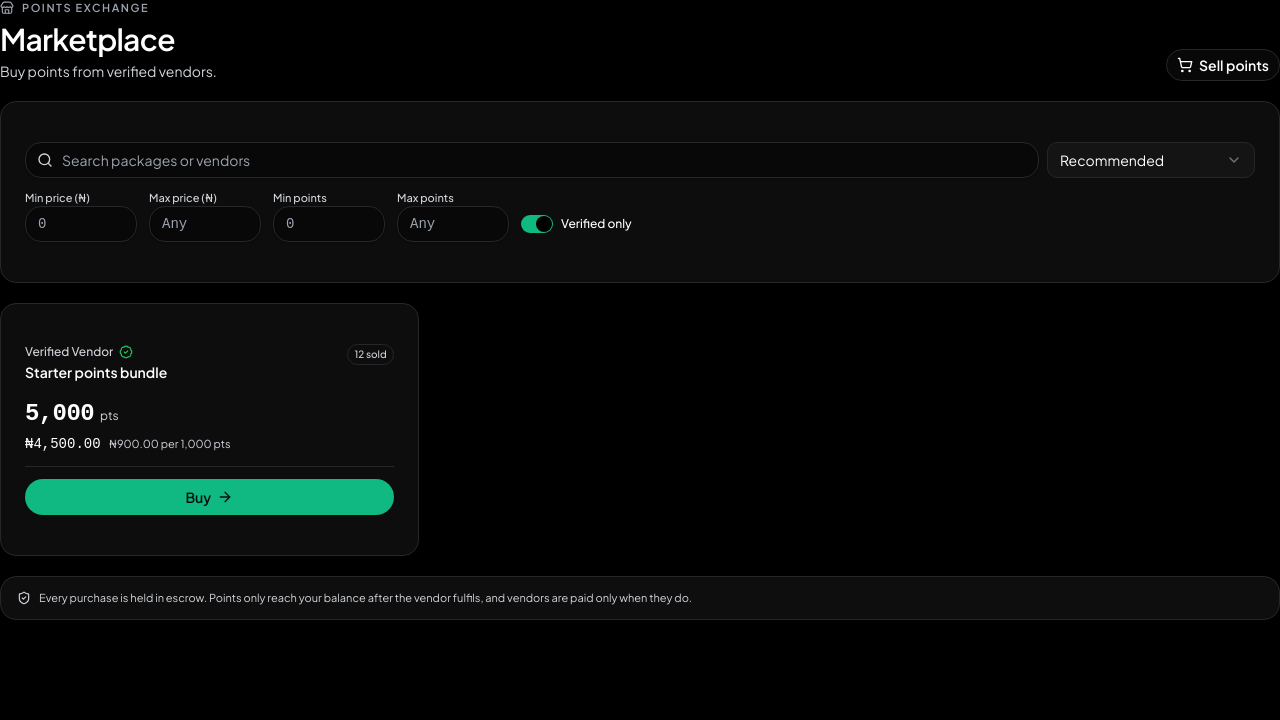
Test: PointMarketplace checkout integration › escrow order remains pending and shows its reference
This screenshot has width=1280, height=720.
Step 1. Click the button "Buy" → (209, 497), box left=25, top=479, right=394, bottom=515
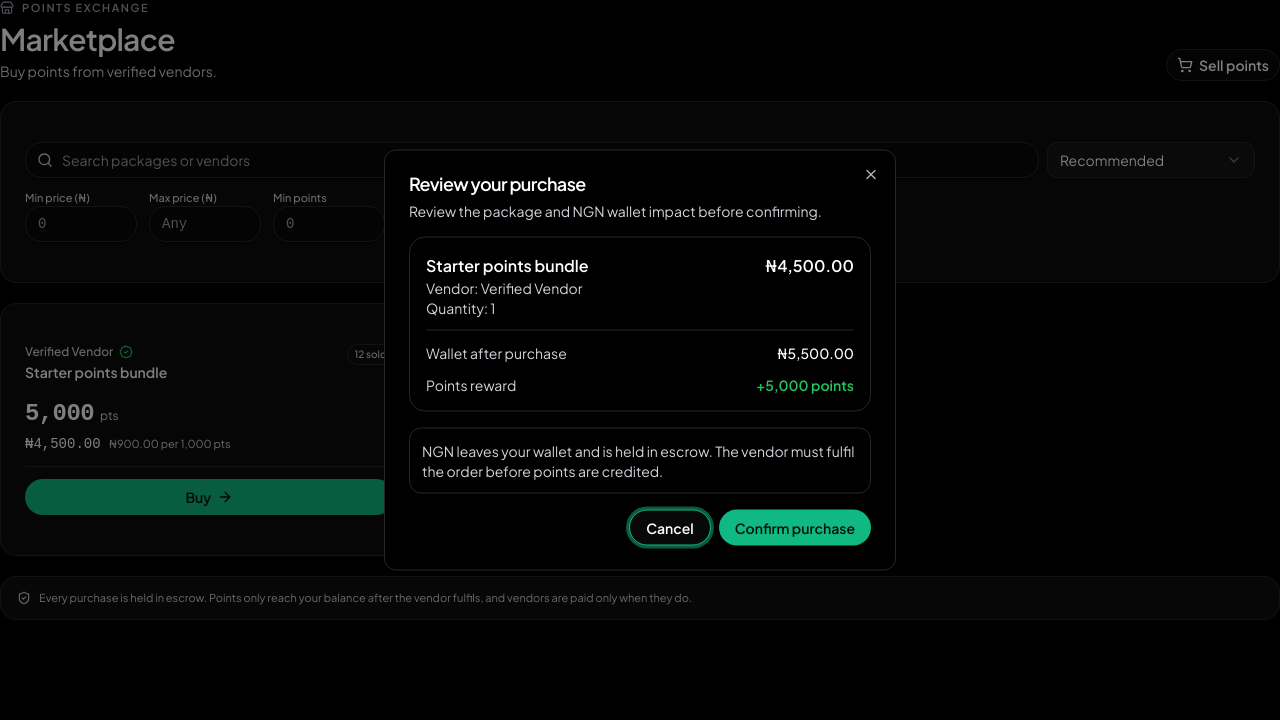
Step 2. Click the button "Confirm purchase" → (795, 528), box left=719, top=510, right=871, bottom=546
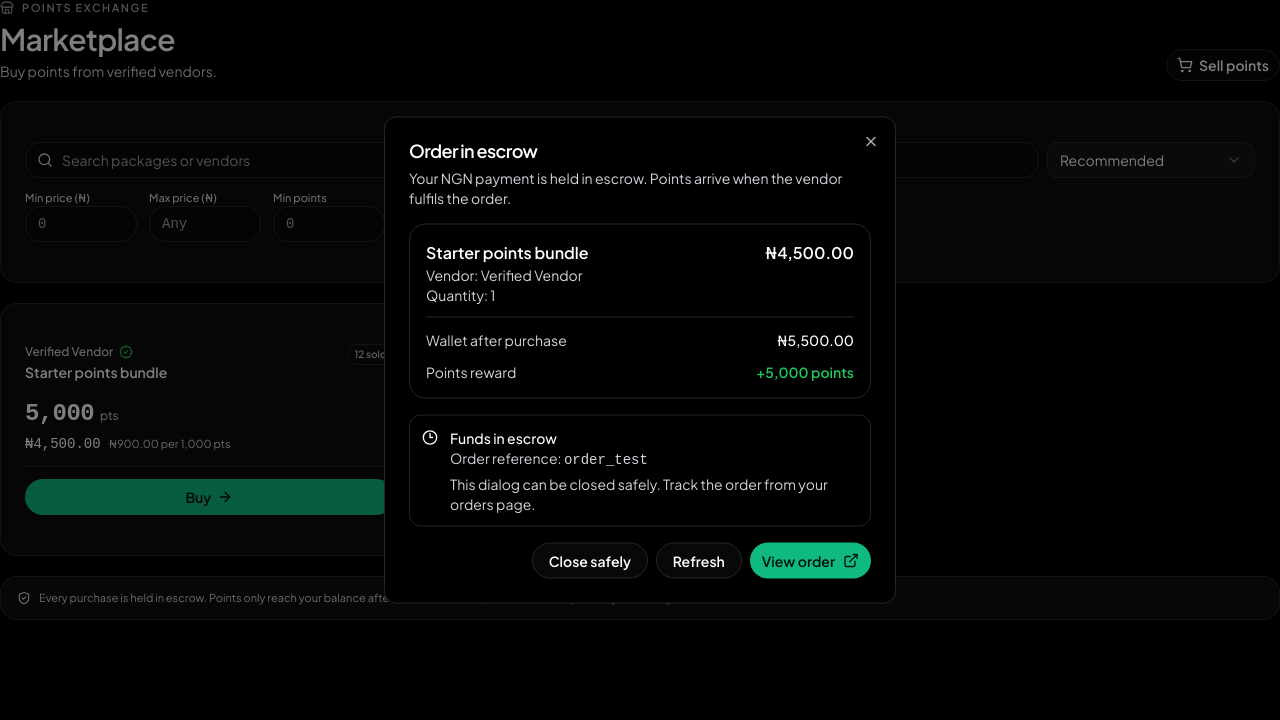
Now the text "order_test" is shown, box left=564, top=452, right=648, bottom=468
Now the text "Funds in escrow" is shown, box left=450, top=428, right=557, bottom=446
